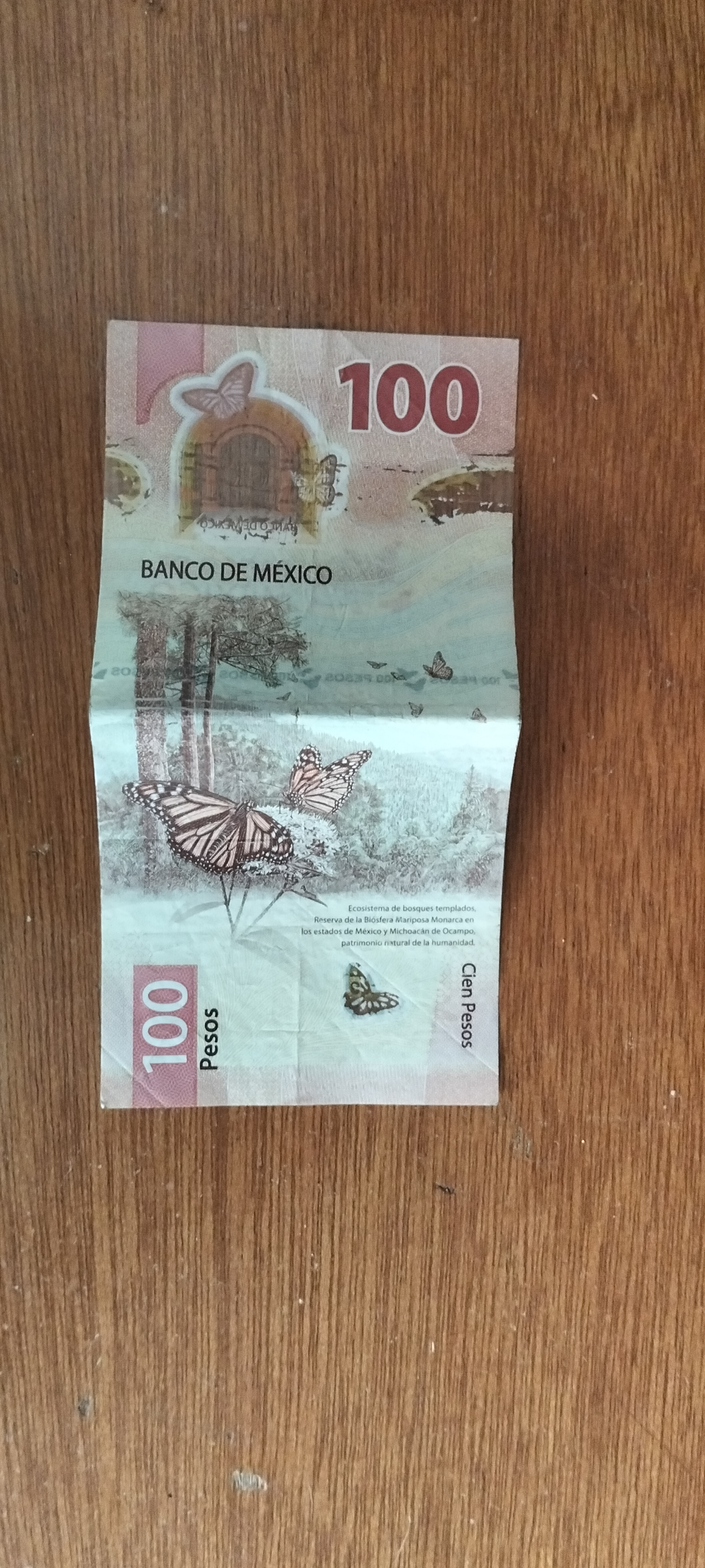billetes: (75, 306, 530, 1130)
